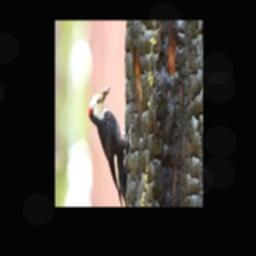Woodpecker: (90, 84, 134, 207)
